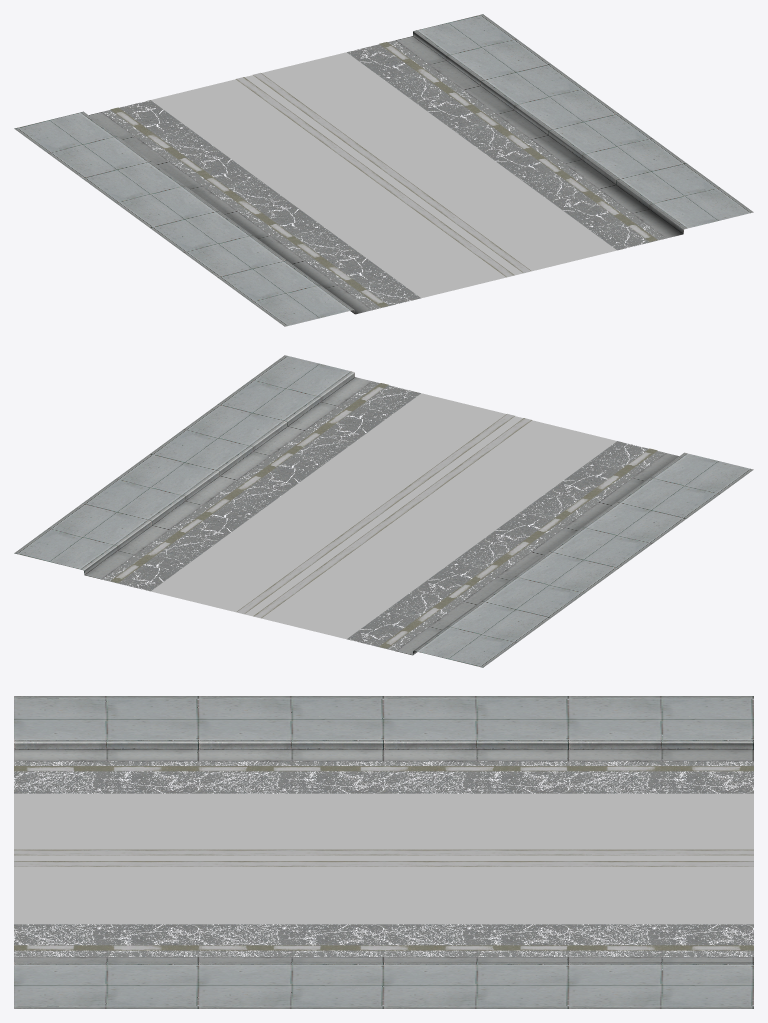
Rendered from Road.obj.
3 renders of one model, top to bottom at view 1: azimuth 30°, elevation 25°; view 2: azimuth 150°, elevation 25°; view 3: azimuth 270°, elevation 25°, orthographic. The views are drawn at different scales.
Visible parts, largest first — view 1: Road; view 2: Road; view 3: Road.
Part boxes in pixels (x1,y1,x2,y2): Road: (14,14,753,326); Road: (14,355,753,667); Road: (14,696,753,1008).
Bounding box in the file's own units: 20 × 0.1949 × 20.
